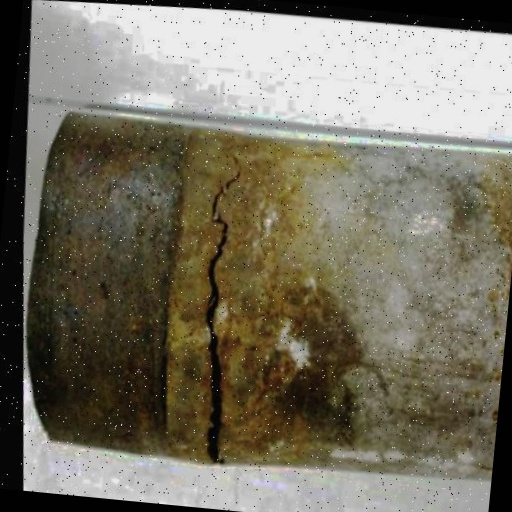crack: (160, 145, 286, 471)
